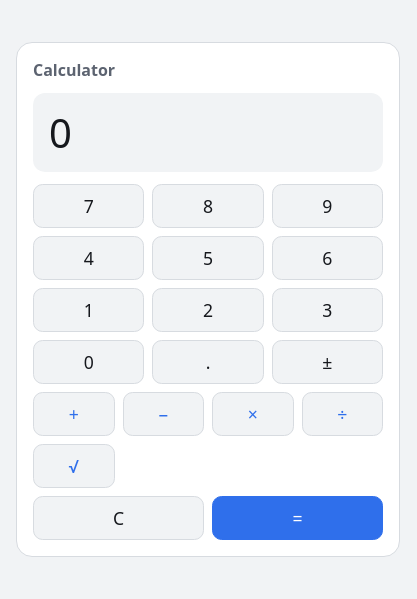
Test: failures › explains a failure from its code, not from the message the server sent
Expected: the button named "add" is shown, [33,392,114,436]
Click the button "1" at (89, 310), box [33,288,144,332]
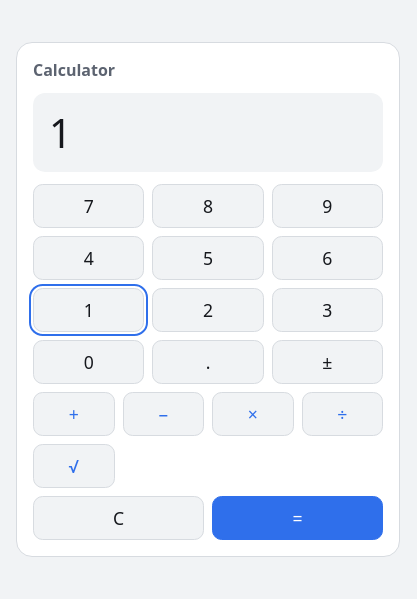
Click the button named "divide" at (342, 414), box [302,392,383,436]
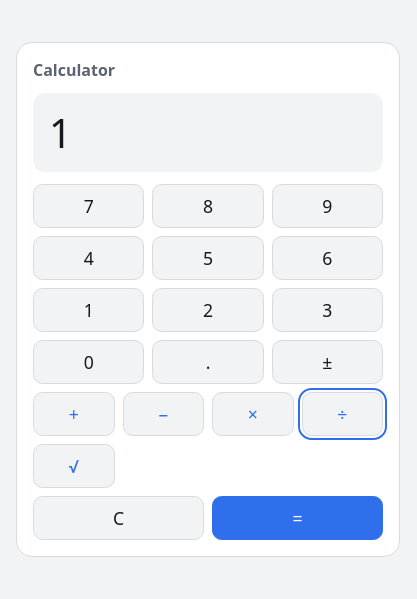
Click the button "0" at (89, 362), box [33,340,144,384]
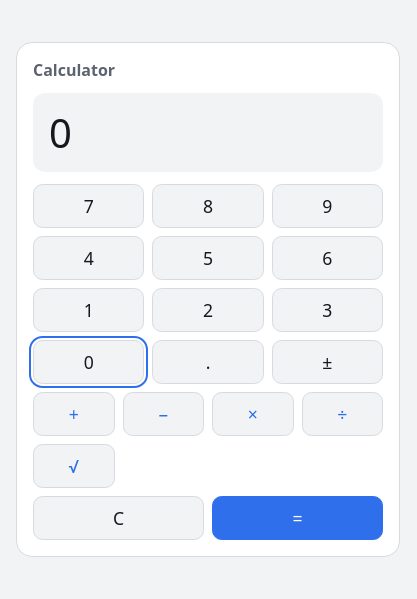
Click the button named "equals" at (298, 518), box [212,496,383,540]
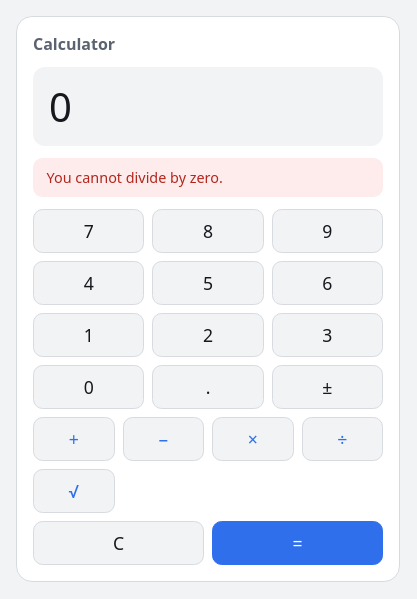
Expected: the message "You cannot divide by zero." does not show "ignored on purpose", [33,158,383,197]
Result: the message "You cannot divide by zero." is shown at [33,158,383,197]
